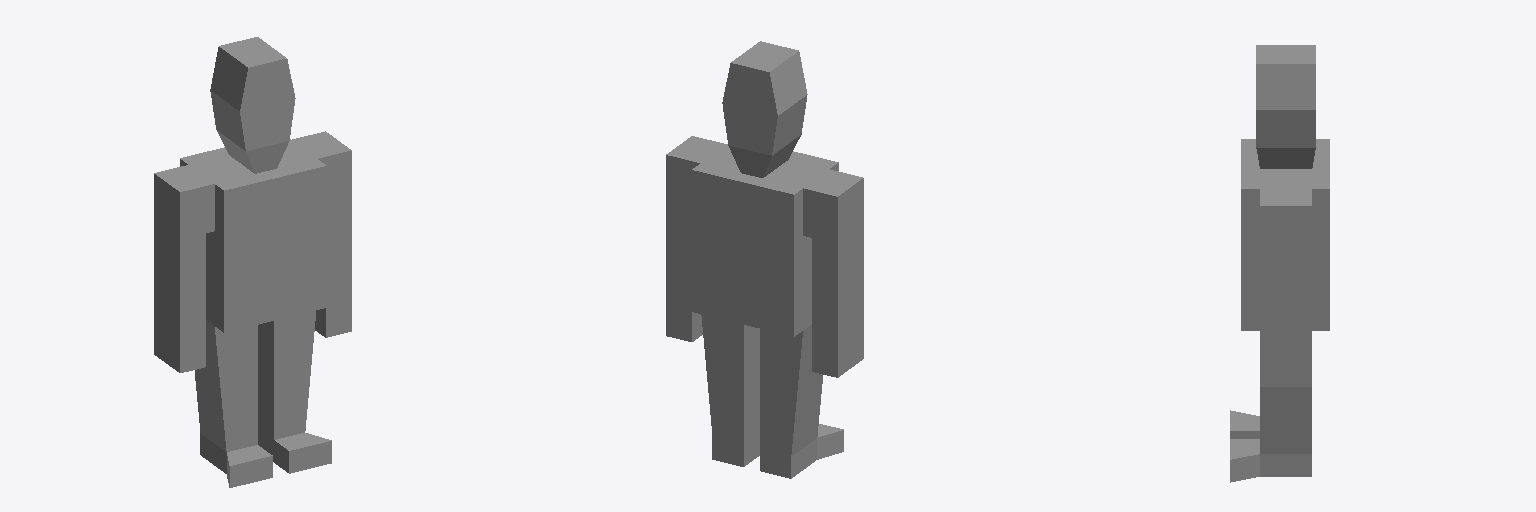
The model's file is farmer.obj.
3 views of the same model, side by side, from view 1: azimuth 30°, elevation 25°; view 2: azimuth 150°, elevation 25°; view 3: azimuth 270°, elevation 25° (orthographic).
Parts seen in each view (by area): view 1: Cube; view 2: Cube; view 3: Cube.
Boxes of the visible parts, box(x1,y1,x2,y2) form: Cube: box(154, 37, 351, 487); Cube: box(666, 41, 863, 478); Cube: box(1230, 45, 1329, 482).
Size of the model in its own units: 2.53 by 5.67 by 1.28.